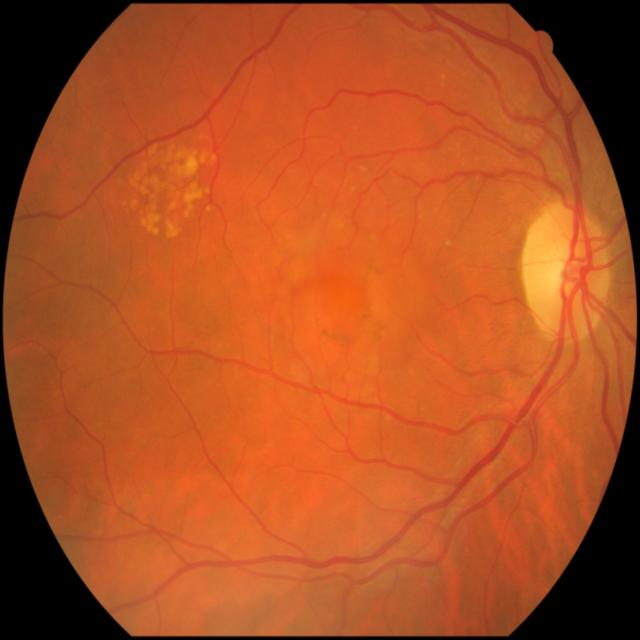OC: (545, 243, 579, 292)
OD: (520, 202, 612, 341)
